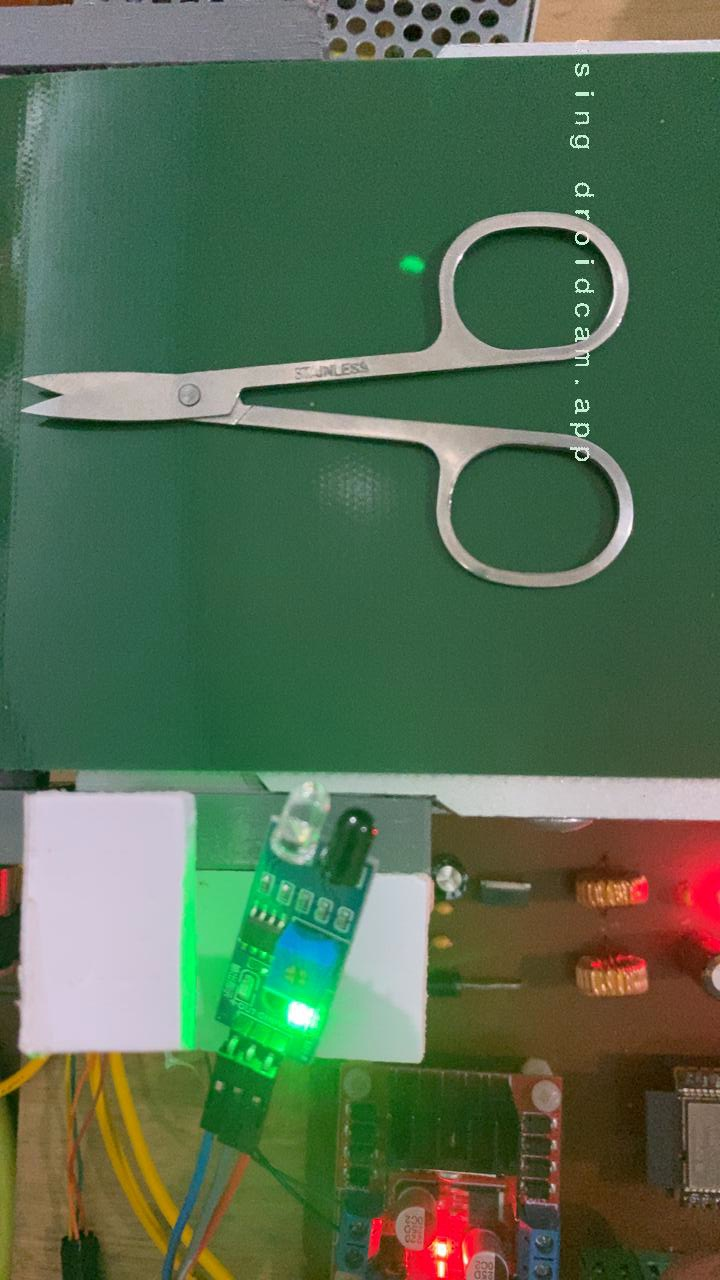scissor: (15, 203, 643, 596)
